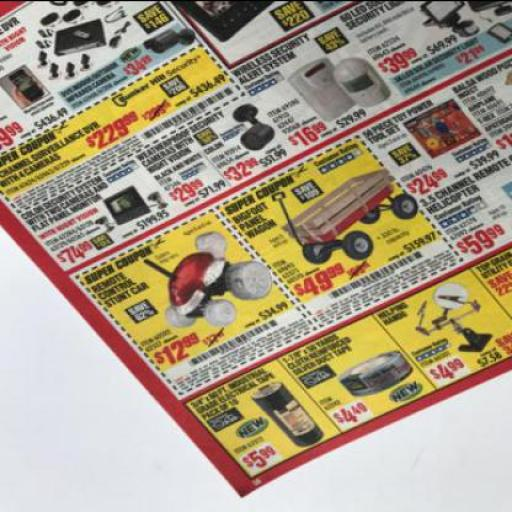paper: (0, 2, 511, 498)
